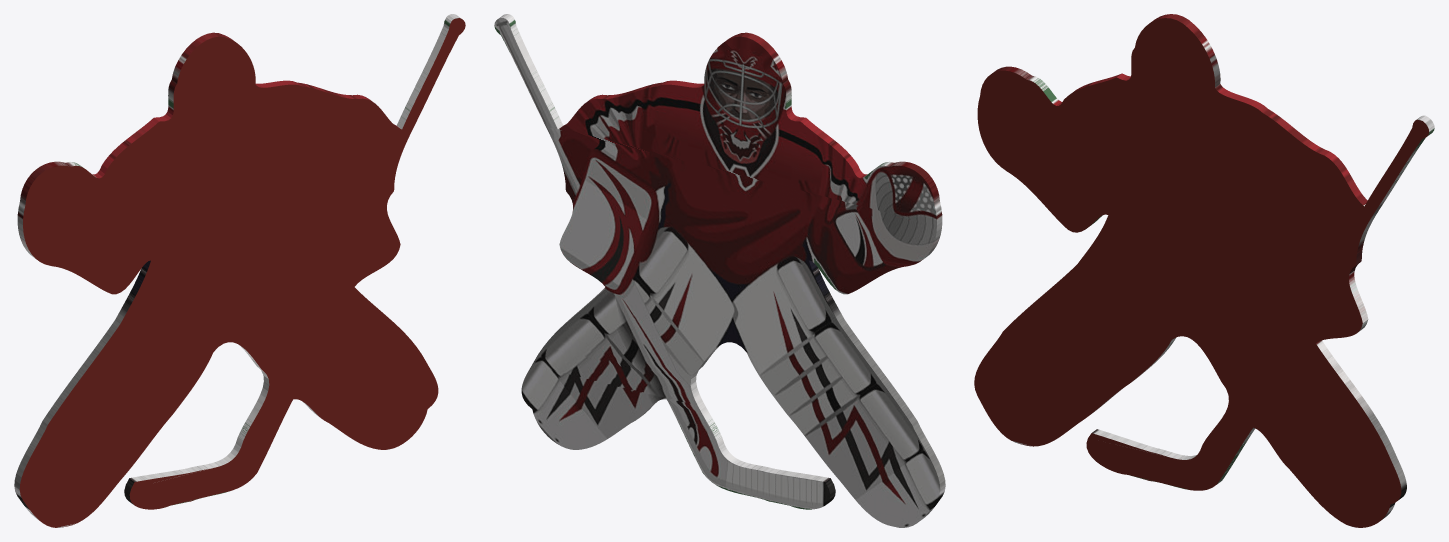
The model's file is portero.glb.
The picture shows the model from 3 angles, left to right: view 1: azimuth 30°, elevation 25°; view 2: azimuth 150°, elevation 25°; view 3: azimuth 330°, elevation 25°; orthographic projection. The views are drawn at different scales.
Parts seen in each view (by area): view 1: path1; view 2: path1; view 3: path1.
Part boxes in pixels (x1=…): path1: x1=14, y1=14, x2=465, y2=527; path1: x1=494, y1=14, x2=945, y2=527; path1: x1=974, y1=14, x2=1434, y2=527.
Bounding box in the file's own units: 1.02 × 1 × 0.0214.
Materials: 2 (1 with a texture image).
